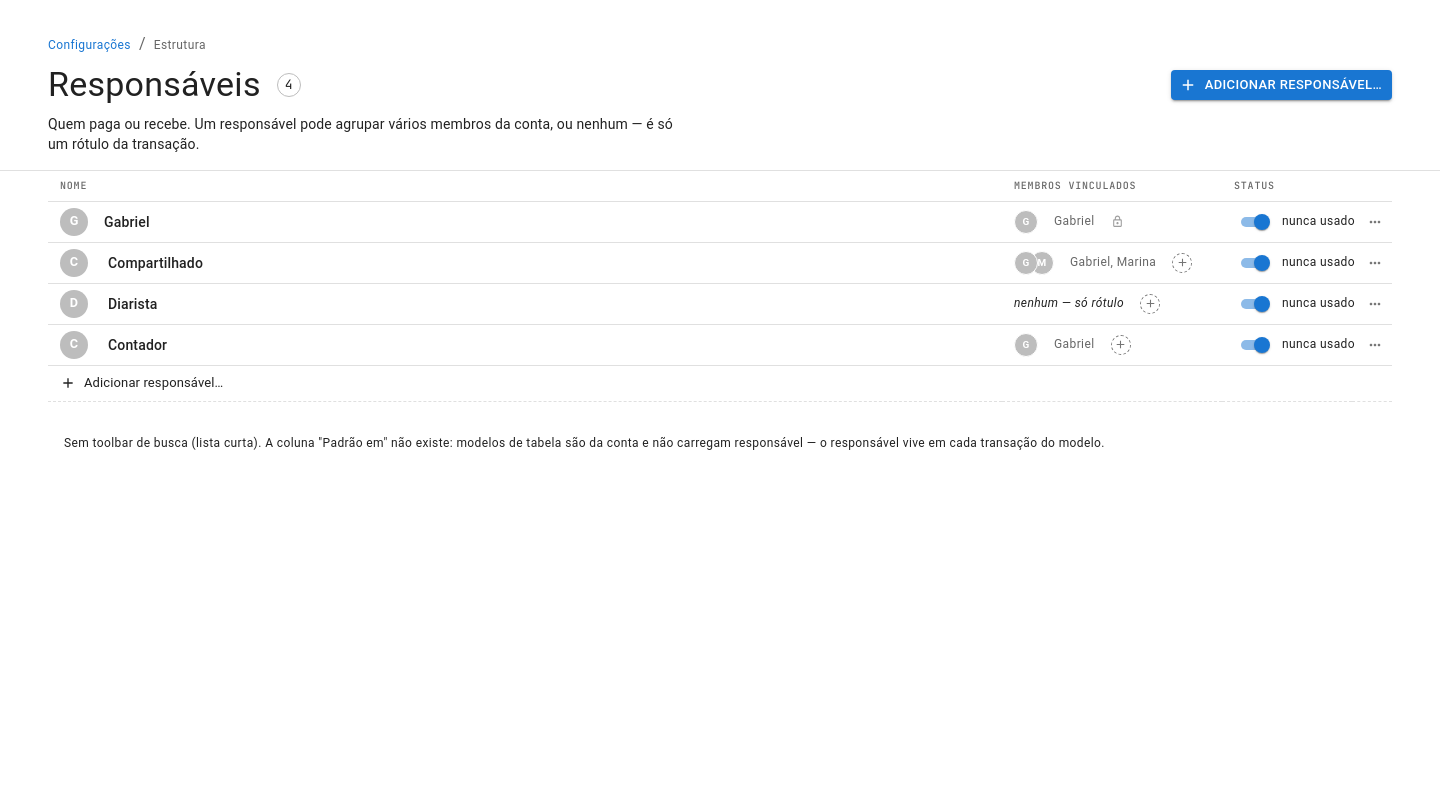
Test: ResponsiblePartiesManager (revisão 'Tudo é responsável') › 'Mesclar' abre o MergeDialog com a linha de origem pré-selecionada em Absorver
The width and height of the screenshot is (1440, 810).
Click the button named "Ações desta linha: Contador": (1375, 344) [1362,332,1388,358]
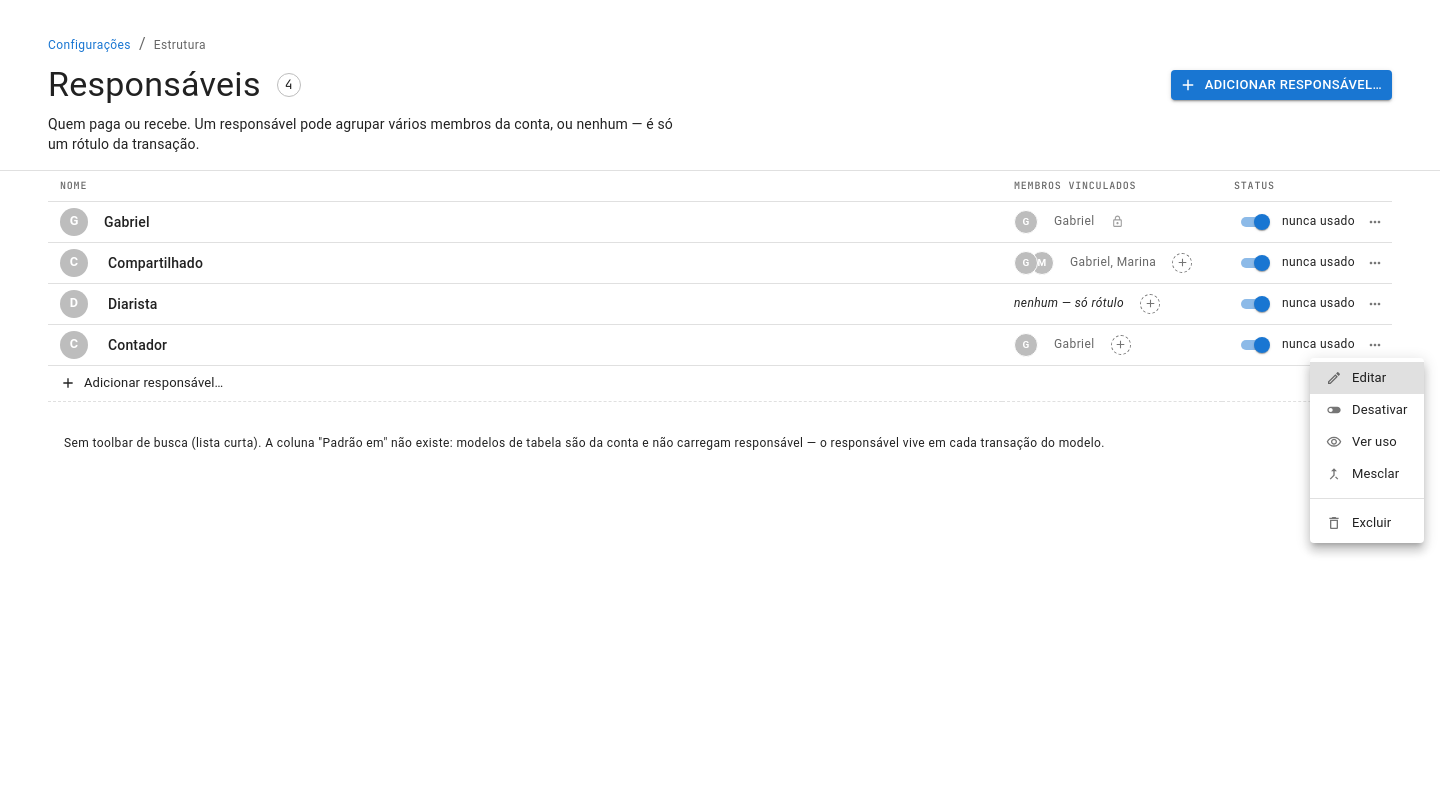
Click the menu item "Mesclar": (1363, 474) [1326,466,1399,482]
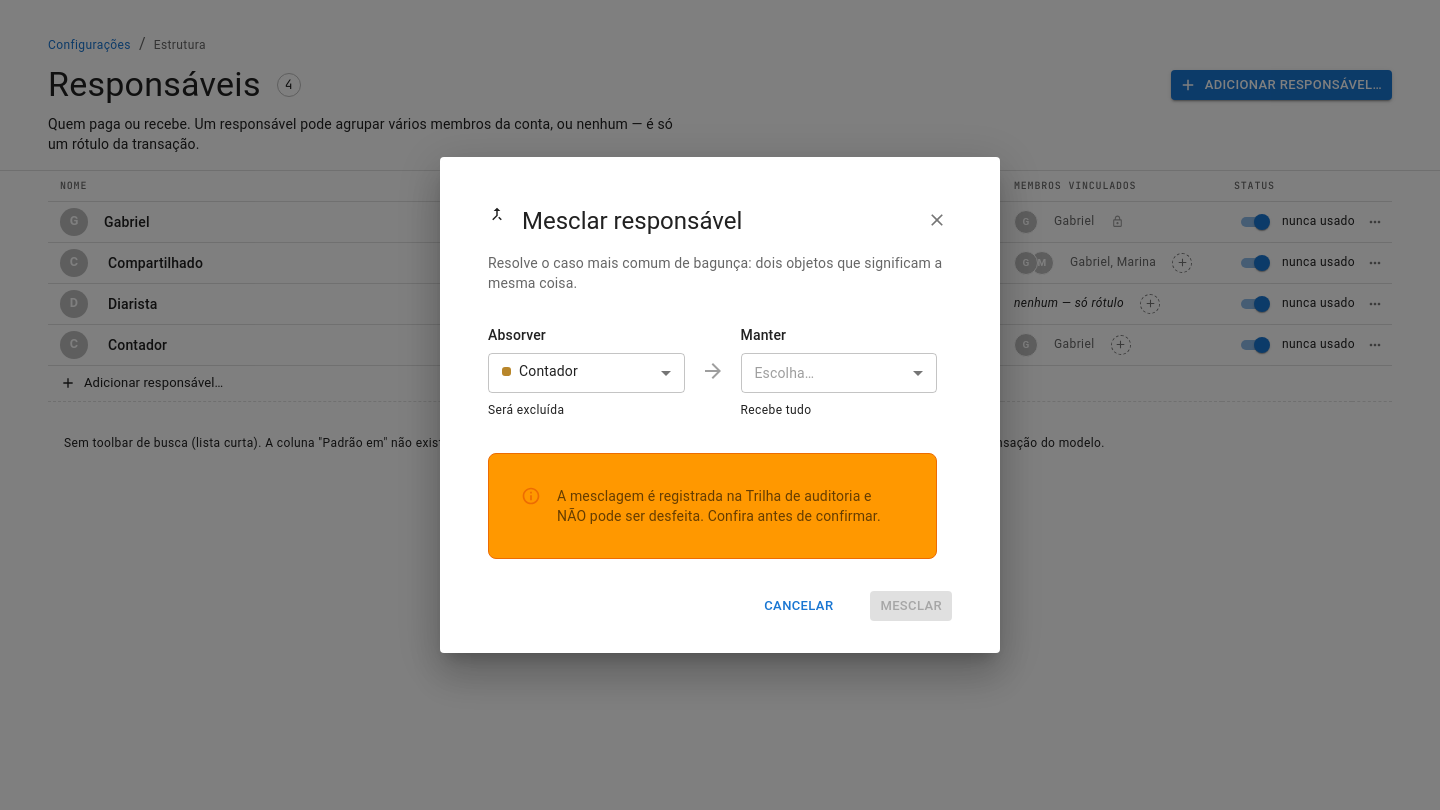
Expected: the dropdown named "Absorver" reads "Contador", [502,363,578,379]
